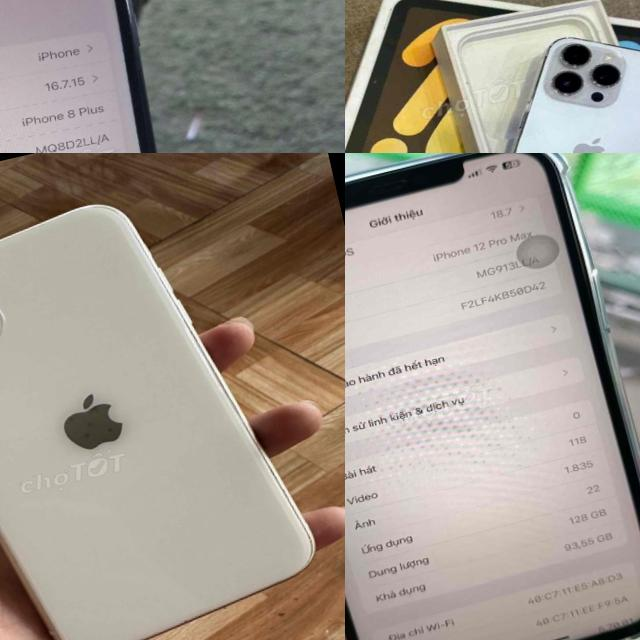gen_11: (0, 164, 345, 640)
gen_12_13: (345, 153, 640, 640)
gen_14: (513, 38, 640, 153)
gen_7_8: (0, 0, 239, 153)
